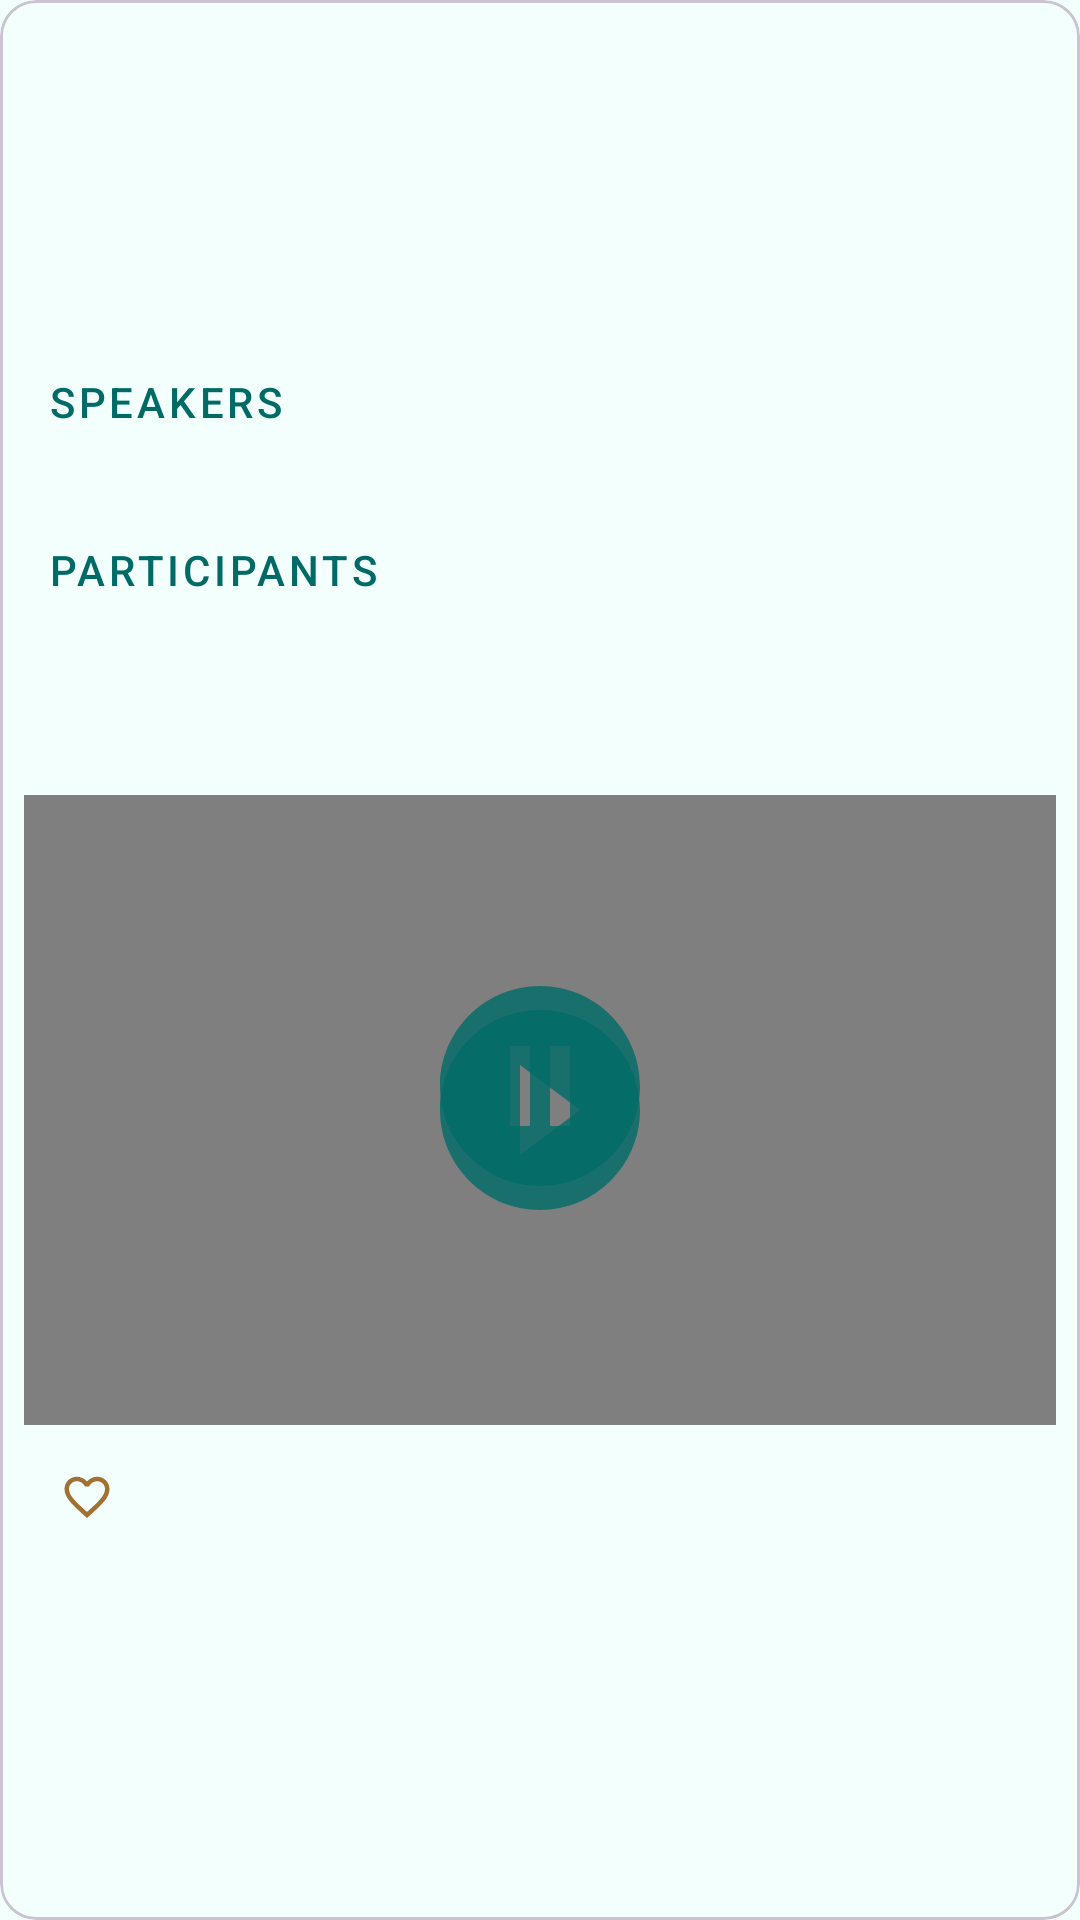

Named icons in this screenshot (1080 × 1920) and their centers, (x,y):
Who liked the post: (87,1497)
